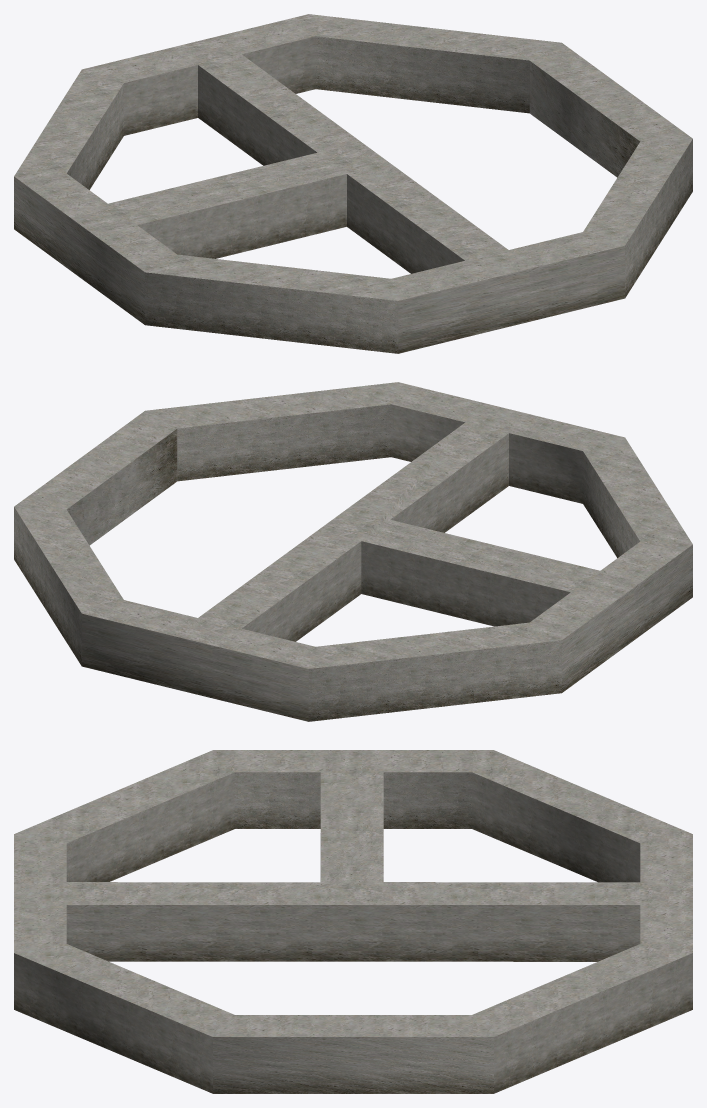
The model's file is WP_TOP_T.fbx.
The picture shows the model from 3 angles, top to bottom: view 1: azimuth 30°, elevation 25°; view 2: azimuth 150°, elevation 25°; view 3: azimuth 270°, elevation 25°; orthographic projection. The views are drawn at different scales.
Parts seen in each view (by area): view 1: WP_TOP_T; view 2: WP_TOP_T; view 3: WP_TOP_T.
Boxes of the visible parts, x1,y1,x2,y2 form: WP_TOP_T: [14, 14, 692, 353]; WP_TOP_T: [14, 382, 692, 721]; WP_TOP_T: [14, 750, 692, 1093].
Bounding box in the file's own units: 10848 × 1000 × 10847.
2 materials, 2 textured.
